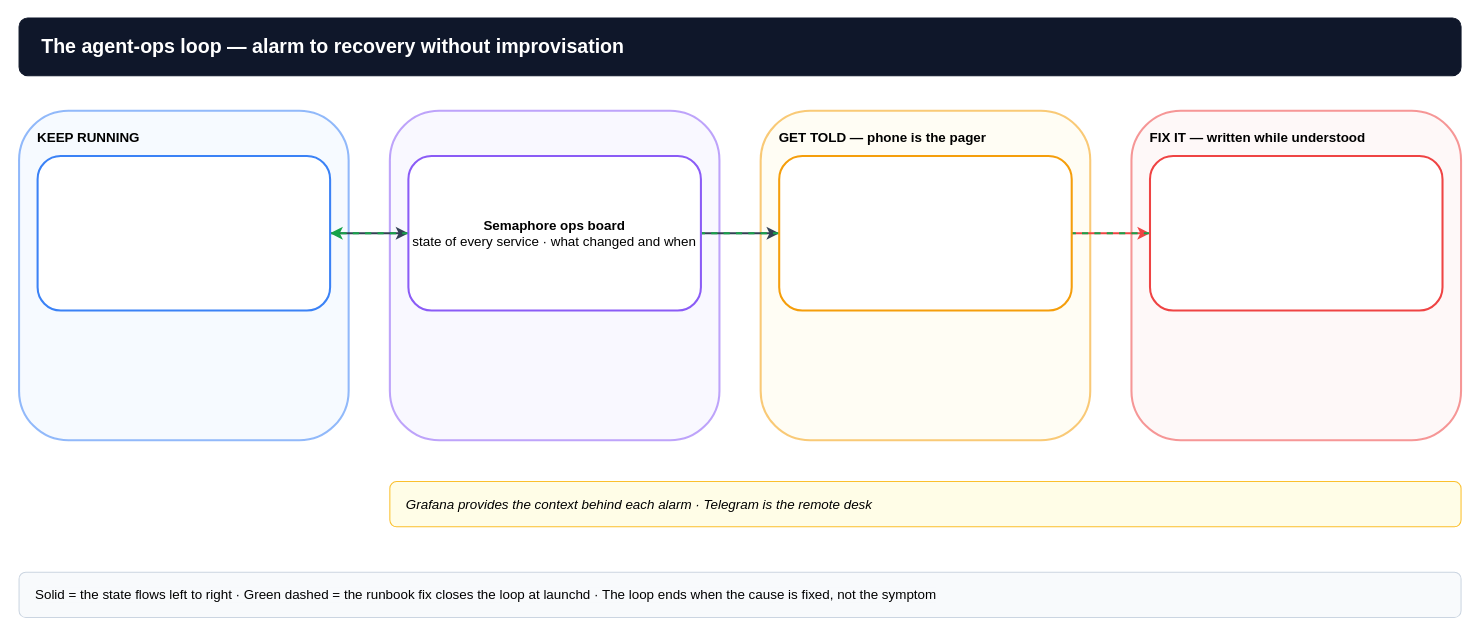
The diagram is 1479 pixels wide and 636 high, and some of its shapes have lost their labels. Here are the shapes that lost their labels. From the top down, the box of each, then its label:
(36, 154, 331, 311): launchd one job per agent · starts and restarts · defines what running means
(778, 154, 1072, 311): Alertmanager watches metrics · routes alarms to Telegram · silence when handled
(1148, 154, 1443, 311): Runbook one document per failure mode · the exact SOP linked from the alarm
(388, 109, 720, 441): SEE STATE — one place to look
